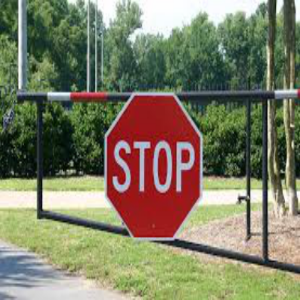STOP_SIGN: (104, 92, 203, 239)
